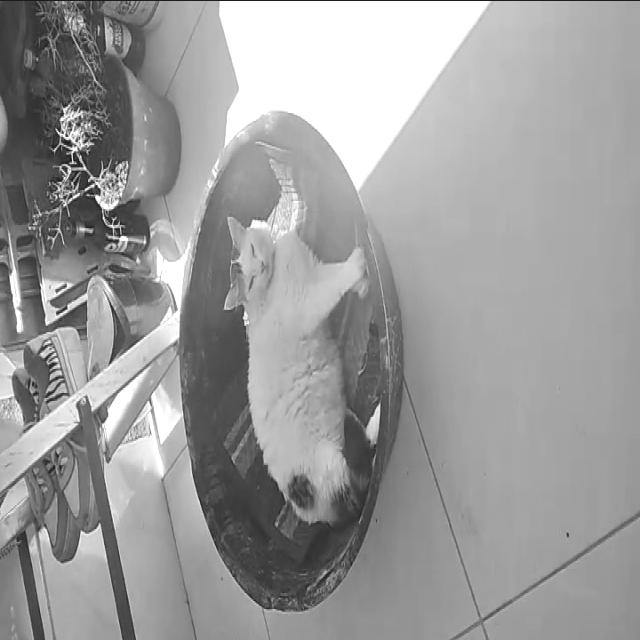Simba: (216, 146, 378, 542)
